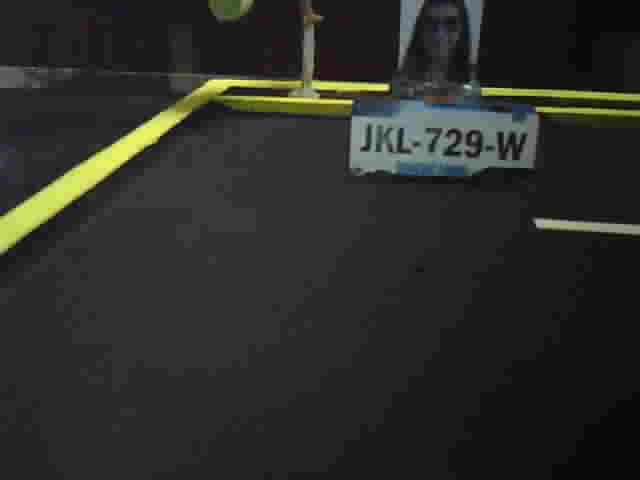PLACA: (346, 94, 543, 187)
ROSTRO: (401, 1, 476, 91)
